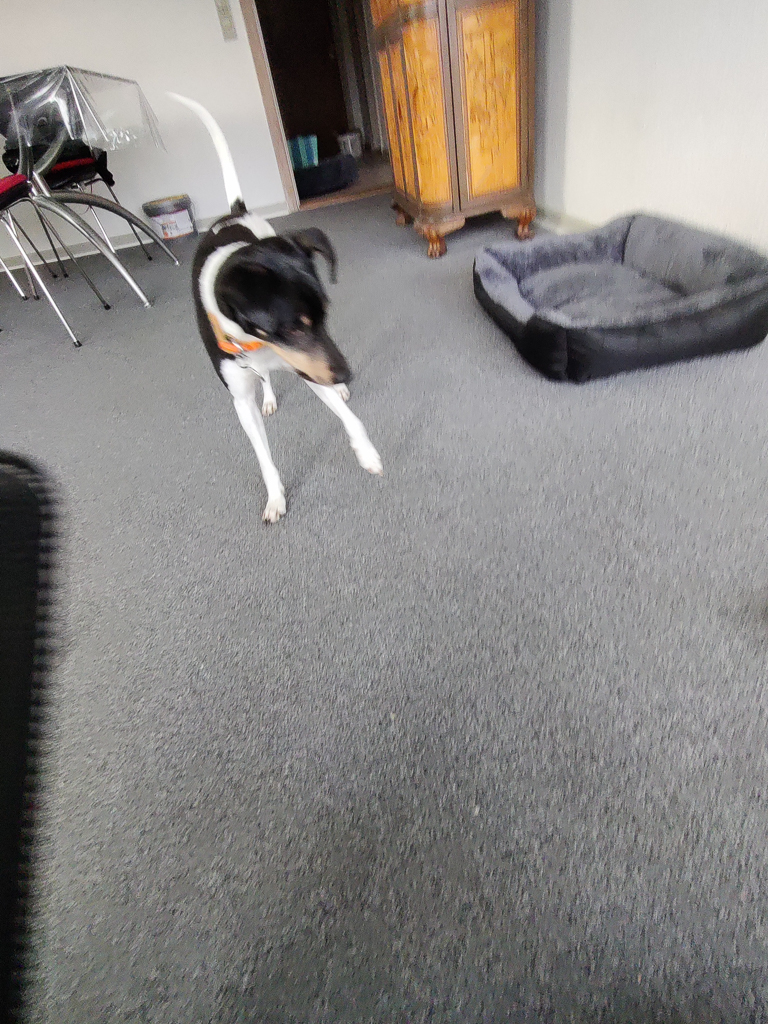Dog: (131, 75, 399, 532)
